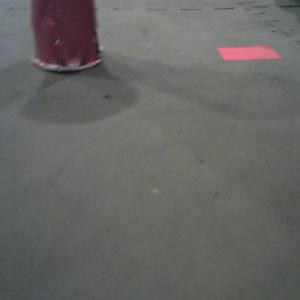middle: (30, 1, 102, 72)
